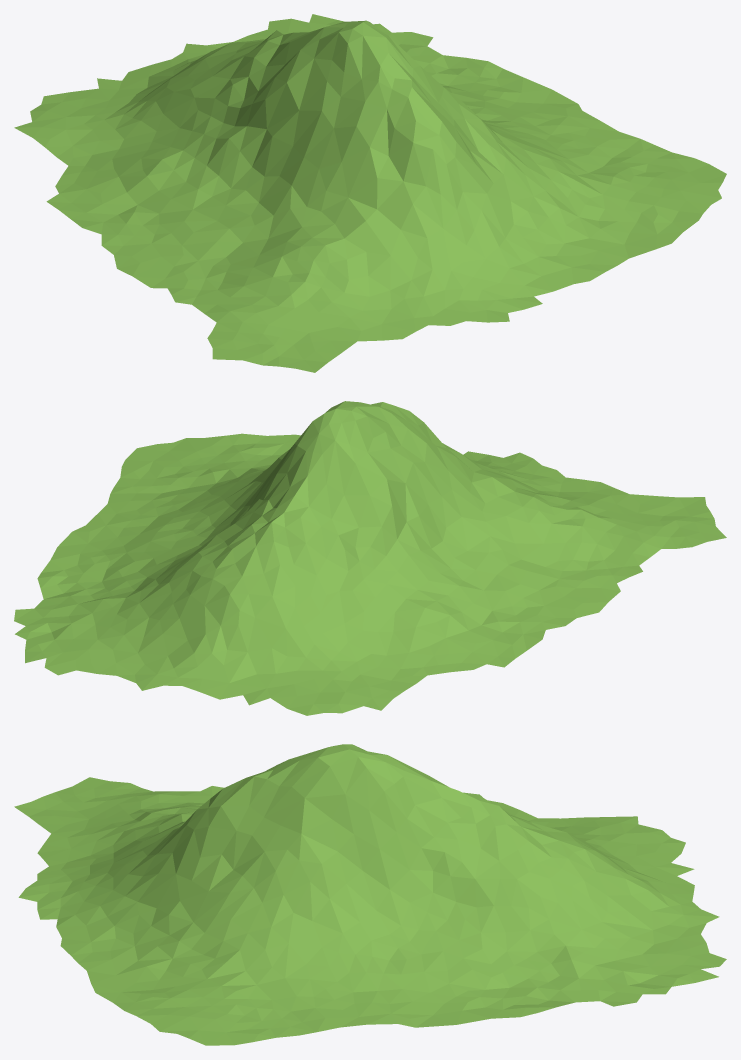
The model's file is MT_Mountain_L_a_30_LOD.fbx.
3 views of the same model, one above another, from view 1: azimuth 30°, elevation 25°; view 2: azimuth 150°, elevation 25°; view 3: azimuth 270°, elevation 25° (orthographic). The views are drawn at different scales.
Parts seen in each view (by area): view 1: MT_Mountain_L_a_30_LOD0; view 2: MT_Mountain_L_a_30_LOD0; view 3: MT_Mountain_L_a_30_LOD0.
Boxes of the visible parts, box(x1,y1,x2,y2) form: MT_Mountain_L_a_30_LOD0: box(14, 14, 726, 372); MT_Mountain_L_a_30_LOD0: box(14, 401, 726, 715); MT_Mountain_L_a_30_LOD0: box(14, 744, 726, 1045).
Size of what is drawn, in the model's own units: 8554 by 2405 by 9570.
